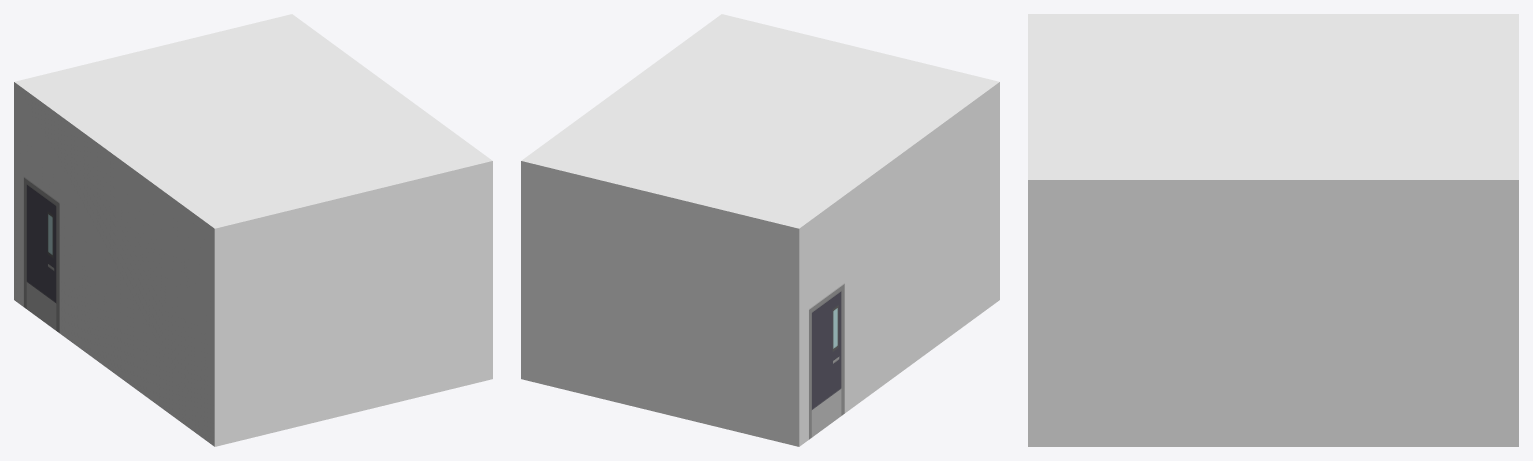
The model's file is Habitacion.glb.
3 views of the same model, side by side, from view 1: azimuth 30°, elevation 25°; view 2: azimuth 150°, elevation 25°; view 3: azimuth 270°, elevation 25° (orthographic). The views are drawn at different scales.
Visible parts, largest first — view 1: Habitacion; view 2: Habitacion; view 3: Habitacion.
Boxes of the visible parts, x1,y1,x2,y2 form: Habitacion: (14,14,492,446); Habitacion: (521,14,999,446); Habitacion: (1028,14,1518,446).
Size of the model in its own units: 32 by 24 by 40.
2 materials, 1 textured.
